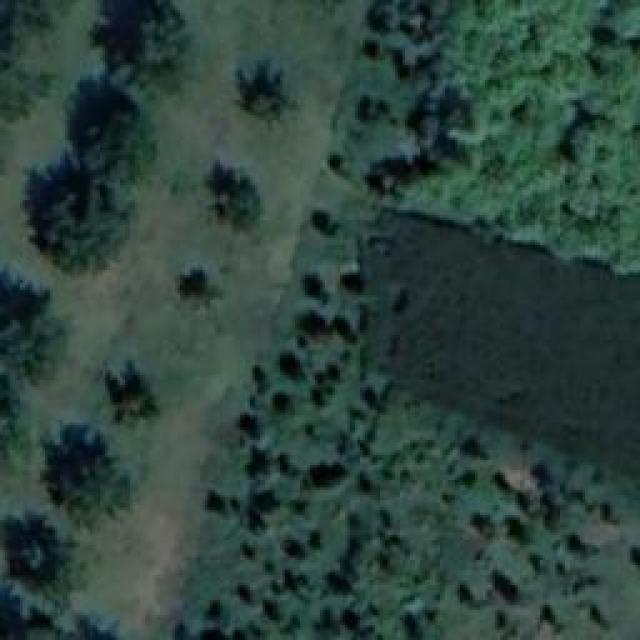Tree: (20, 158, 131, 273), (87, 0, 200, 102), (64, 77, 164, 184), (38, 420, 131, 528), (0, 515, 80, 640), (0, 270, 68, 388), (0, 0, 60, 120), (203, 160, 266, 245), (93, 358, 163, 431), (298, 454, 353, 500), (304, 358, 348, 411), (175, 268, 225, 313), (240, 73, 288, 118), (558, 529, 604, 567), (318, 563, 358, 604), (486, 564, 524, 606), (304, 204, 342, 244), (352, 89, 395, 123), (293, 268, 331, 304), (295, 308, 334, 341), (242, 441, 275, 479), (275, 533, 310, 568), (500, 509, 532, 547), (339, 609, 378, 640), (233, 406, 269, 439), (364, 0, 401, 32), (275, 347, 311, 378), (198, 594, 232, 626), (452, 578, 480, 616), (396, 607, 428, 640), (199, 485, 230, 519), (330, 312, 356, 350), (470, 506, 498, 541), (310, 605, 338, 640), (248, 487, 282, 515), (274, 448, 304, 479), (256, 594, 285, 626), (338, 264, 366, 295), (236, 536, 261, 569), (269, 388, 298, 416), (322, 146, 349, 175), (245, 363, 271, 390), (361, 34, 386, 62), (233, 580, 258, 605), (419, 599, 442, 626), (169, 617, 192, 640), (199, 624, 232, 640)
